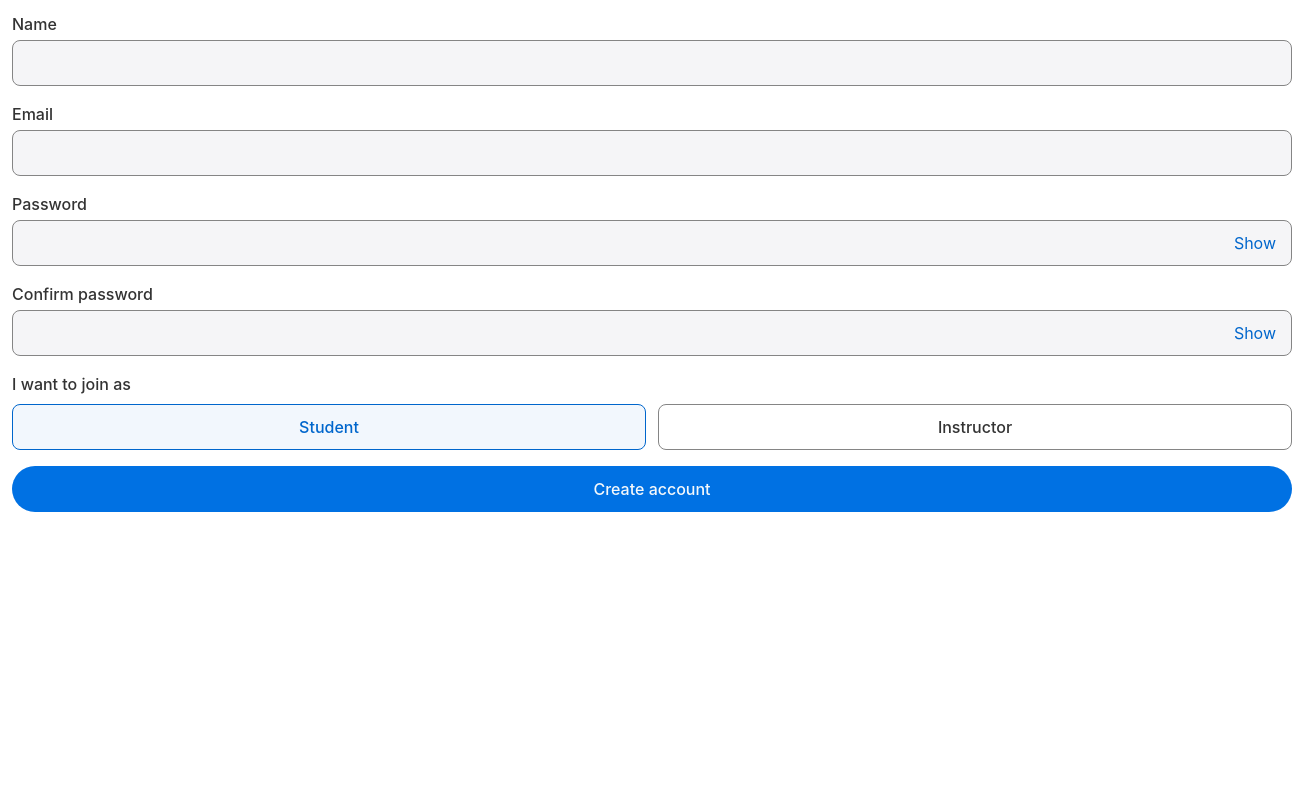
Test: RegisterForm › shows validation messages for empty/invalid fields
Step 1. Click the button "Create account" → [652, 489], box [12,466,1292,512]
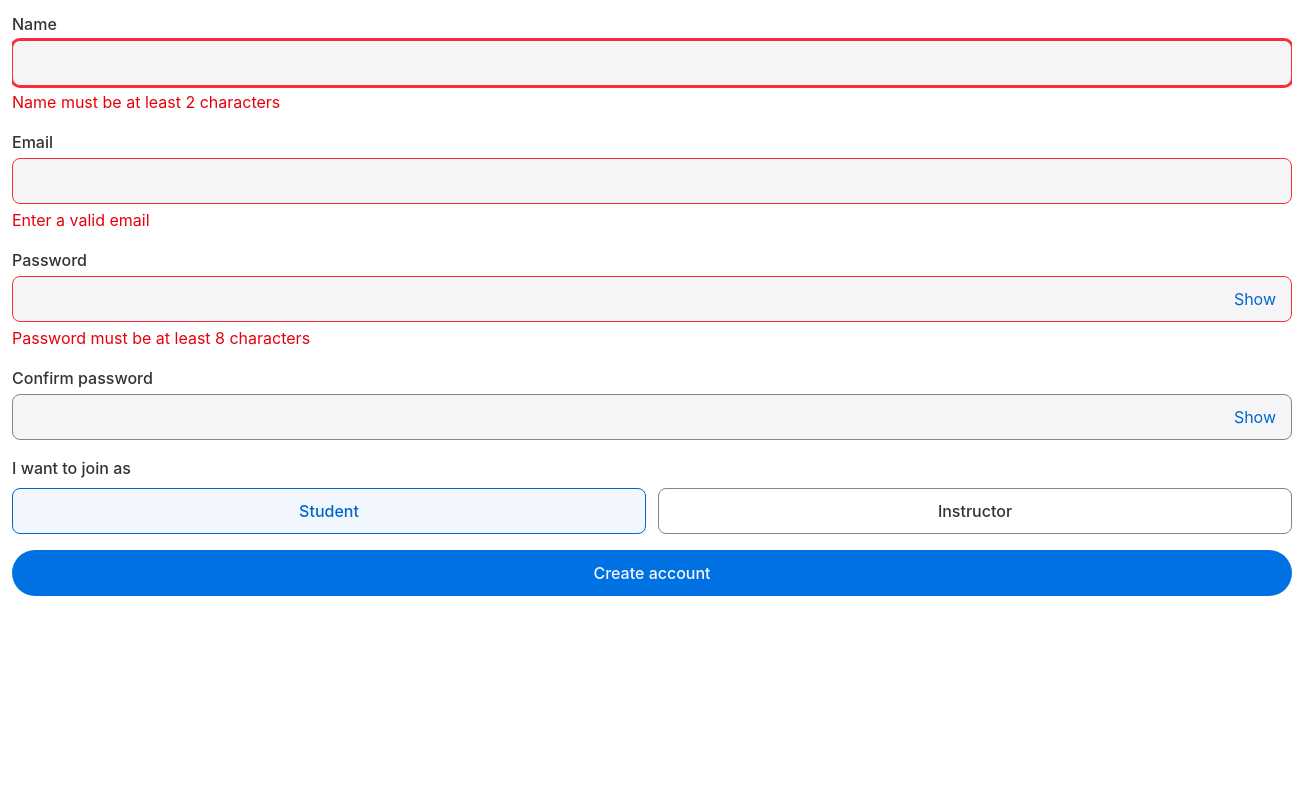
Expected: the text "Name must be at least 2 characters" is shown, [12,92,280,112]
Expected: the text "Enter a valid email" is shown, [12,210,150,230]
Expected: the text "Password must be at least 8 characters" is shown, [12,328,310,348]
